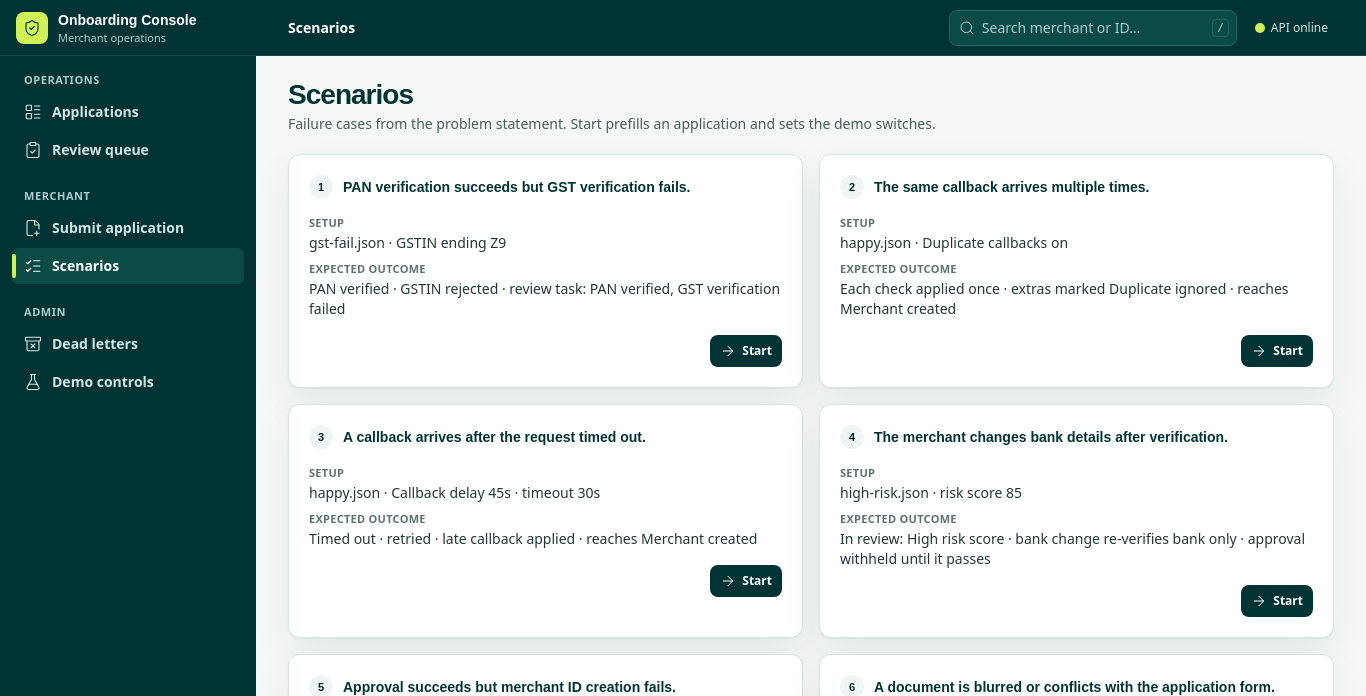
Test: the Scenarios page › starting one sets its switches, turns the others off and opens the pre-filled form
Click the button "Start" below "happy.json · Duplicate callbacks on" at (1277, 351), box [1241, 335, 1313, 367]
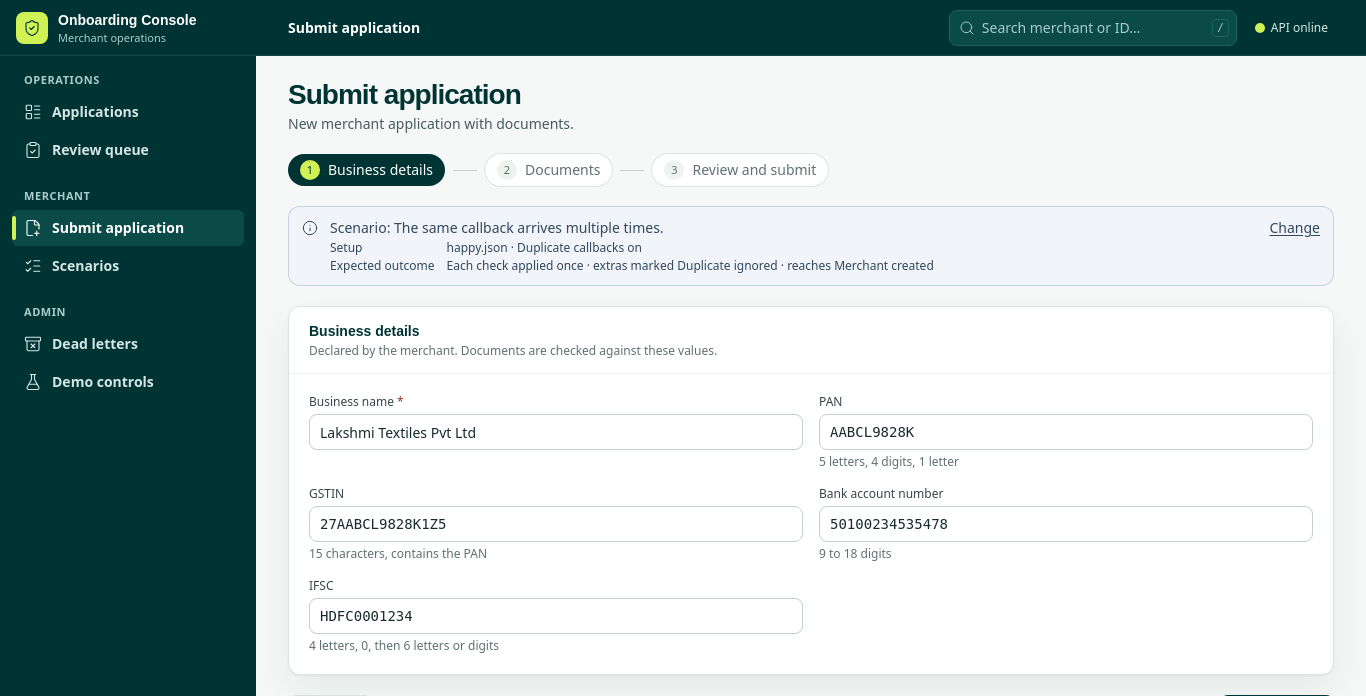
Now the field labelled "Business name *" holds "Lakshmi Textiles Pvt Ltd", box [309, 414, 803, 450]
